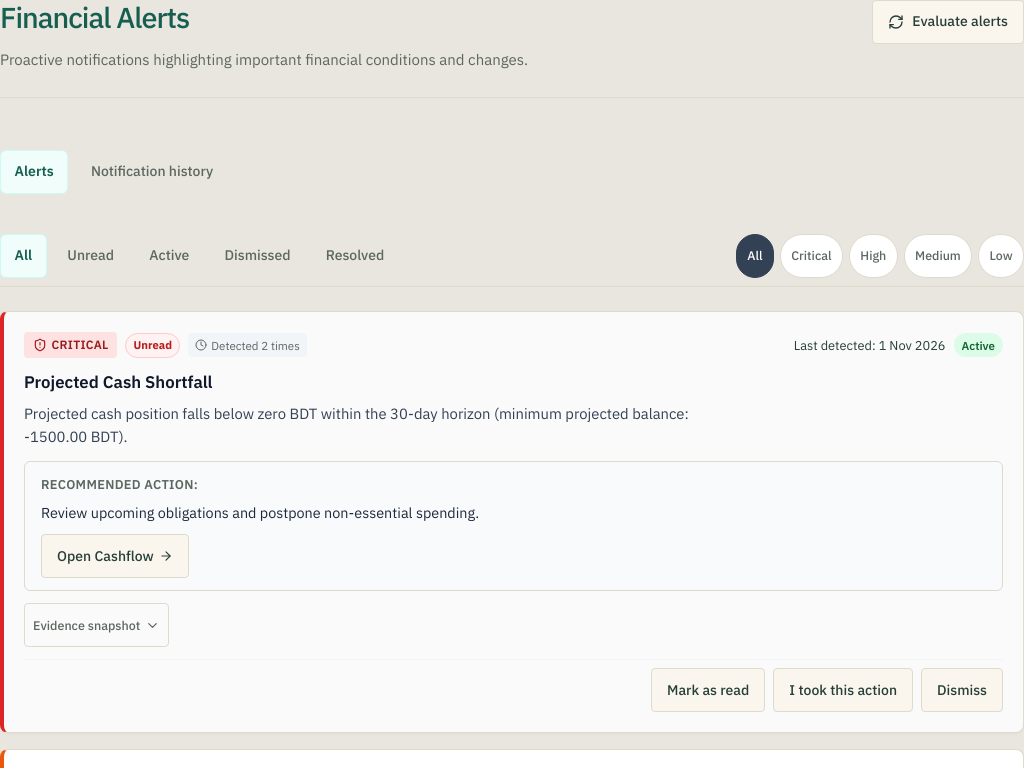
Test case: toggles evidence snapshot drawer with disclaimer
The width and height of the screenshot is (1024, 768).
// Click first evidence toggle
Click the button "Evidence snapshot" at (97, 625), box [24, 603, 169, 647]
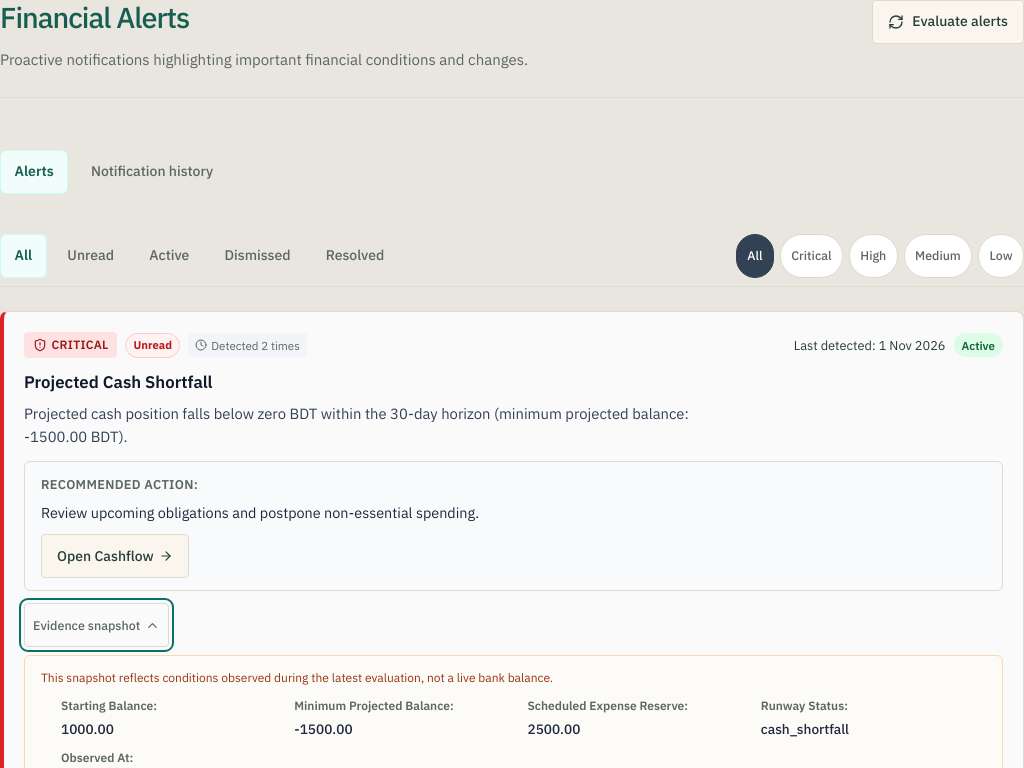
Now the text "This snapshot reflects conditions observed during the latest evaluation, not a live bank balance" is shown, box [41, 670, 553, 685]
Now the text "minimum projected balance:" is shown, box [294, 698, 454, 713]
Now the text "-1500.00" is shown, box [294, 720, 353, 738]
// Toggle off
Click the button "Evidence snapshot" at (97, 625), box [24, 603, 169, 647]
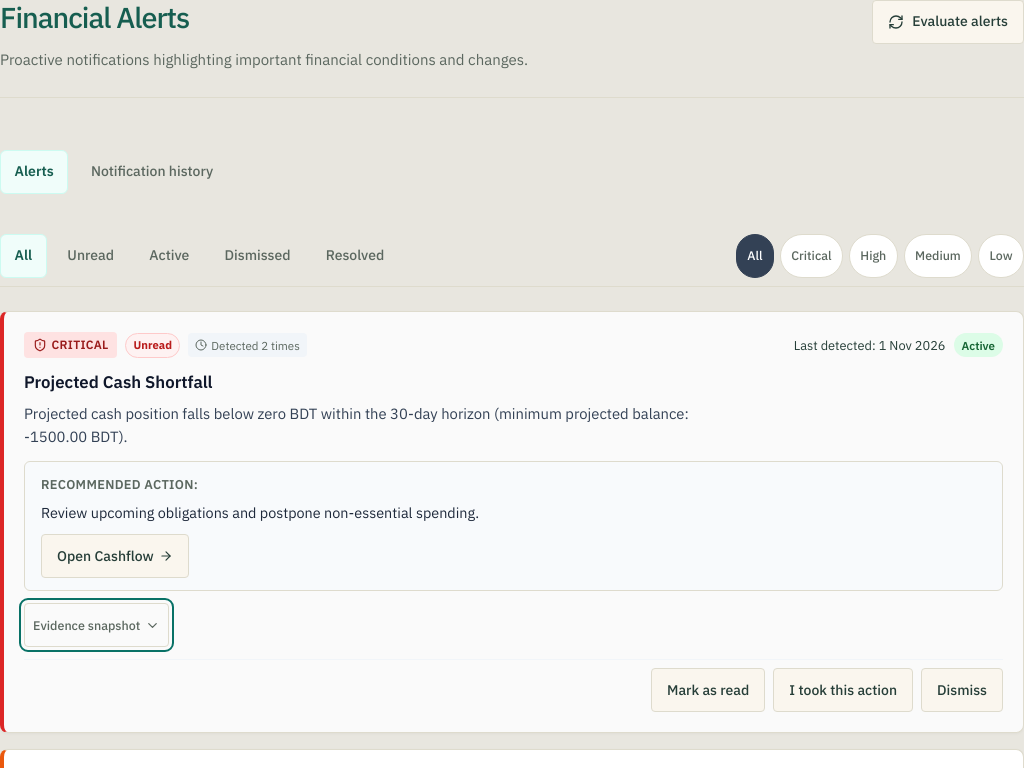
Now the text "This snapshot reflects conditions observed during the latest evaluation, not a live bank balance" is gone
